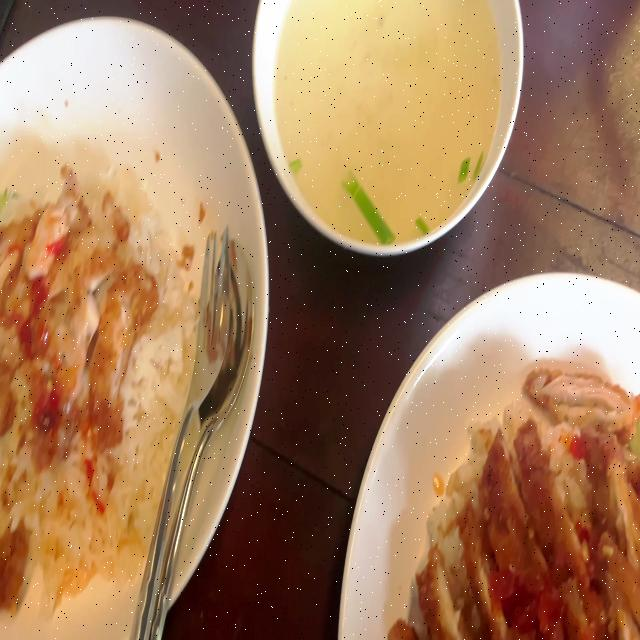chicken_rice: (0, 129, 195, 626), (396, 360, 640, 640)
cucumber: (0, 179, 27, 224), (631, 410, 640, 458)
fried_chicken: (418, 366, 640, 640), (0, 166, 156, 457), (0, 516, 32, 612)
